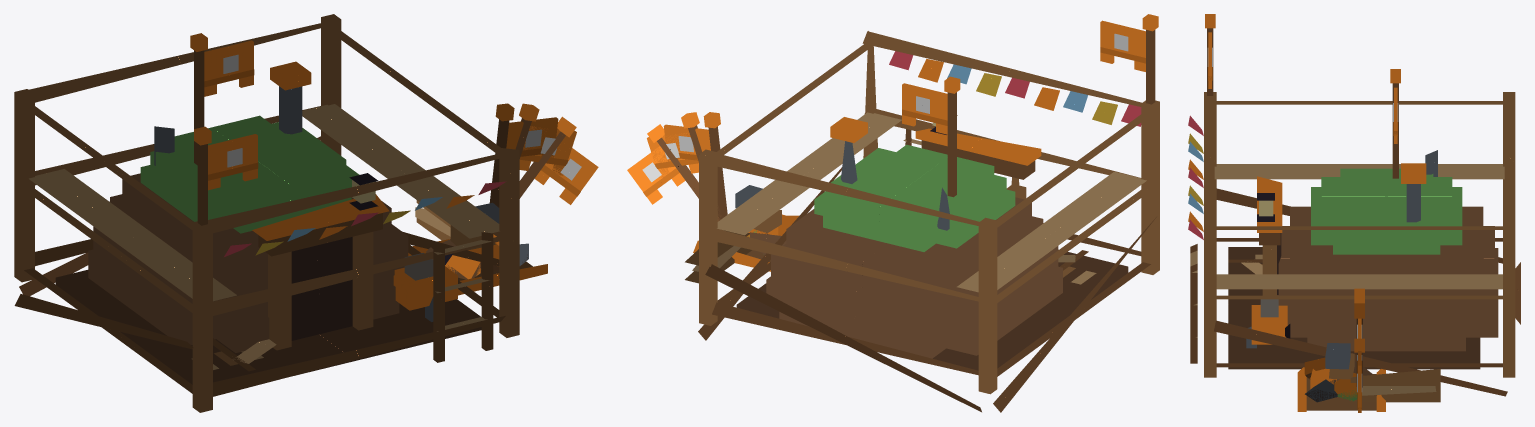
File: bumblebee-research_lod1.glb
The picture shows the model from 3 angles, left to right: view 1: azimuth 30°, elevation 25°; view 2: azimuth 150°, elevation 25°; view 3: azimuth 270°, elevation 25°; orthographic projection. The views are drawn at different scales.
Parts seen in each view (by area): view 1: scaffold-mesh, built-mesh, dismantle-75-mesh, dismantle-50-mesh, scaffold-banner, banner, dismantle-25-banner, dismantle-25-mesh, dismantle-75-banner, flag-pole, scaffold-flag-pole, dismantle-50-banner (+3 smaller); view 2: scaffold-mesh, built-mesh, dismantle-75-mesh, dismantle-50-mesh, scaffold-banner, banner, dismantle-25-banner, flag-pole, dismantle-75-banner, scaffold-flag-pole, dismantle-50-banner, dismantle-75-flag-pole (+3 smaller); view 3: scaffold-mesh, built-mesh, dismantle-75-mesh, dismantle-50-mesh, dismantle-25-mesh, flag-pole, scaffold-flag-pole.
Part boxes in pixels (bbox=[...]): scaffold-mesh: bbox=[14, 14, 519, 412]; built-mesh: bbox=[88, 61, 453, 352]; dismantle-75-mesh: bbox=[93, 173, 547, 369]; dismantle-50-mesh: bbox=[93, 227, 546, 371]; scaffold-banner: bbox=[208, 134, 258, 190]; banner: bbox=[204, 40, 254, 96]; dismantle-25-banner: bbox=[534, 148, 598, 204]; dismantle-25-mesh: bbox=[183, 202, 542, 349]; dismantle-75-banner: bbox=[506, 117, 558, 157]; flag-pole: bbox=[190, 33, 207, 165]; scaffold-flag-pole: bbox=[194, 126, 211, 225]; dismantle-50-banner: bbox=[519, 126, 576, 175]; scaffold-mesh: bbox=[685, 31, 1159, 412]; built-mesh: bbox=[766, 117, 1062, 358]; dismantle-75-mesh: bbox=[695, 140, 1096, 334]; dismantle-50-mesh: bbox=[693, 215, 1088, 332]; scaffold-banner: bbox=[1100, 20, 1145, 71]; banner: bbox=[902, 83, 947, 134]; dismantle-25-banner: bbox=[627, 146, 685, 204]; flag-pole: bbox=[944, 76, 960, 197]; dismantle-75-banner: bbox=[663, 124, 710, 161]; scaffold-flag-pole: bbox=[1142, 14, 1158, 104]; dismantle-50-banner: bbox=[647, 133, 698, 177]; dismantle-75-flag-pole: bbox=[703, 112, 727, 220]; scaffold-mesh: bbox=[1188, 92, 1520, 402]; built-mesh: bbox=[1250, 150, 1498, 347]; dismantle-75-mesh: bbox=[1255, 206, 1483, 411]; dismantle-50-mesh: bbox=[1228, 230, 1494, 411]; dismantle-25-mesh: bbox=[1246, 338, 1383, 411]; flag-pole: bbox=[1390, 69, 1400, 178]; scaffold-flag-pole: bbox=[1205, 14, 1215, 95].
Size of the model in its own units: 2.67 by 1.55 by 1.85.
